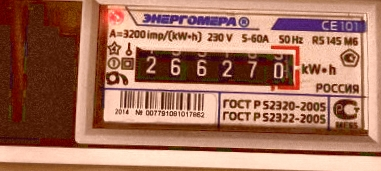0: (270, 60, 285, 80)
2: (143, 54, 157, 75), (220, 58, 234, 78)
6: (194, 57, 208, 77), (168, 56, 181, 77)
7: (246, 59, 257, 78)
screen: (122, 36, 306, 97)
